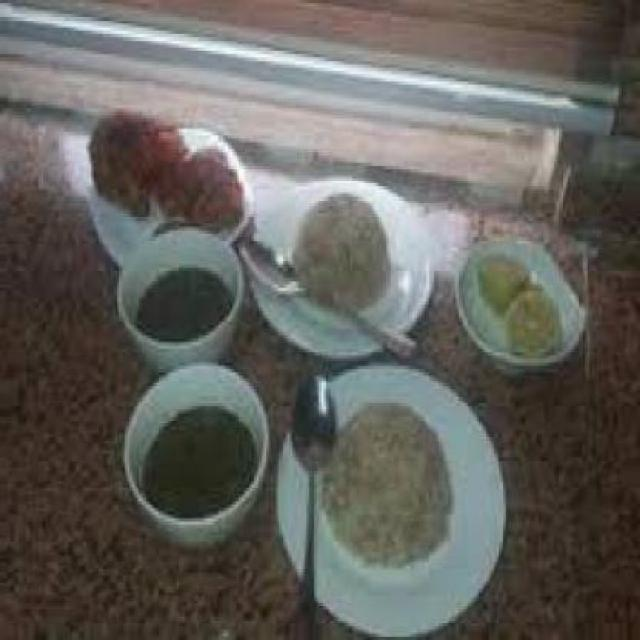fried rice: (316, 393, 456, 579), (290, 182, 401, 312)
molokhia: (127, 237, 259, 538)
